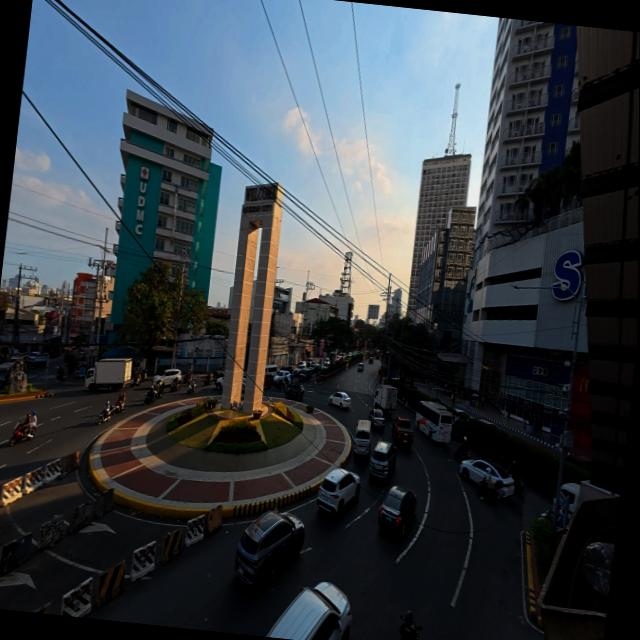bus: (416, 401, 452, 442)
car: (235, 511, 304, 591), (267, 582, 351, 639), (459, 459, 514, 497), (317, 468, 360, 514), (378, 486, 416, 537), (368, 442, 397, 482), (392, 416, 414, 447), (561, 483, 580, 514), (152, 369, 182, 386), (566, 455, 592, 471), (329, 392, 350, 409), (369, 409, 385, 430), (285, 383, 303, 400), (479, 418, 499, 430), (273, 370, 291, 382), (298, 369, 313, 382), (293, 362, 306, 376), (214, 376, 224, 390), (264, 373, 273, 388), (280, 366, 293, 374), (313, 363, 320, 374), (322, 362, 330, 370), (357, 362, 364, 371), (368, 358, 373, 364), (377, 367, 381, 373), (375, 355, 379, 360)
motorcycle: (477, 479, 500, 505), (10, 423, 34, 445), (510, 461, 523, 496), (454, 437, 471, 460), (110, 398, 125, 415), (98, 406, 111, 424), (144, 387, 156, 405), (412, 622, 421, 639), (56, 368, 66, 382), (132, 373, 141, 388), (170, 379, 180, 392), (187, 379, 195, 394), (203, 373, 212, 385), (184, 371, 191, 383), (141, 369, 147, 382)
trucks: (85, 358, 132, 391), (374, 384, 398, 415)
vans: (355, 420, 371, 457), (265, 365, 277, 374)
